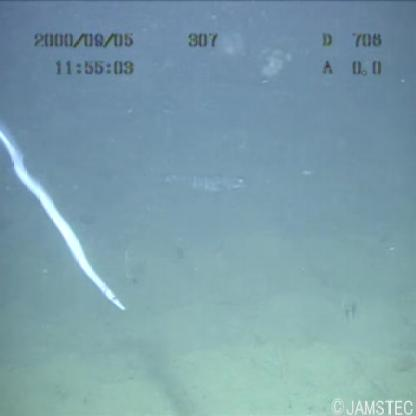Bio: (1, 112, 129, 317)
